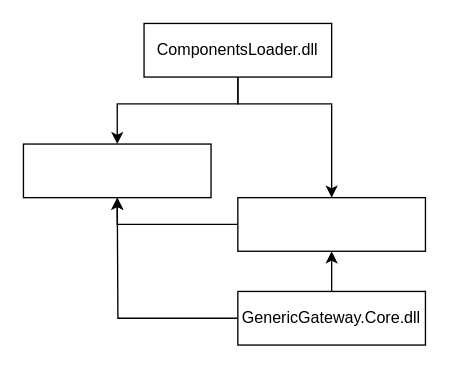
Image size: 449x369. Some labels were removed from this diagram. The box of each missing label's shape, as (x1, y1, x2, y2) in pixels:
Generice Gatewae.exe: (22, 143, 211, 198)
GenericGateway. Infrastructure.dll: (237, 196, 425, 251)
